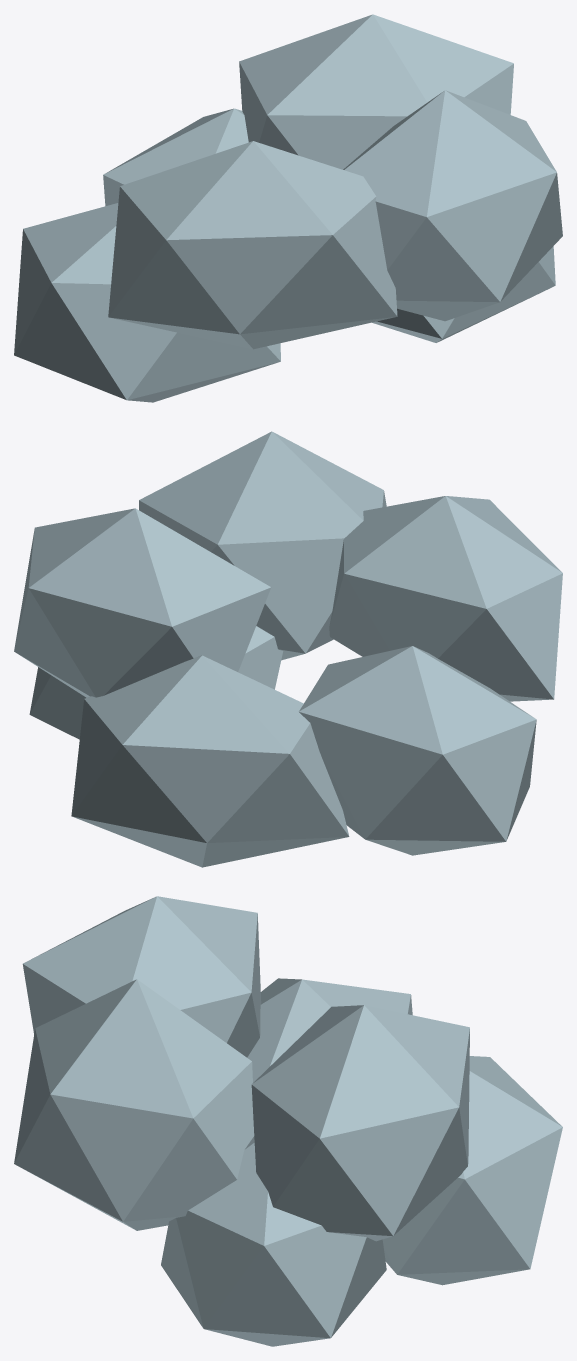
Rendered from crushed-iron-ore.glb.
3 views of the same model, one above another, from view 1: azimuth 30°, elevation 25°; view 2: azimuth 150°, elevation 25°; view 3: azimuth 270°, elevation 25° (orthographic). The views are drawn at different scales.
Parts seen in each view (by area): view 1: crushed-iron-ore / Iron; view 2: crushed-iron-ore / Iron; view 3: crushed-iron-ore / Iron.
Boxes of the visible parts, box(x1,y1,x2,y2) form: crushed-iron-ore / Iron: box(14, 14, 562, 402); crushed-iron-ore / Iron: box(14, 431, 562, 867); crushed-iron-ore / Iron: box(14, 896, 562, 1346).
Bounding box in the file's own units: 0.2373 × 0.1444 × 0.209.
